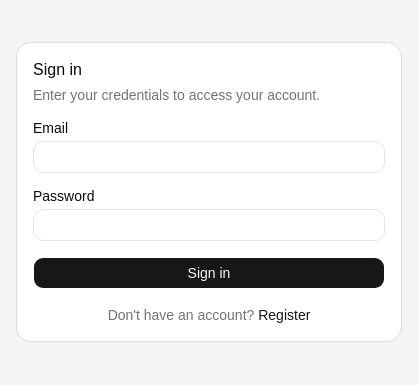
Test: LoginPage › shows validation error when submitting empty form
The width and height of the screenshot is (419, 385).
Click the button "Sign in" at (209, 273), box [33,257,385,289]
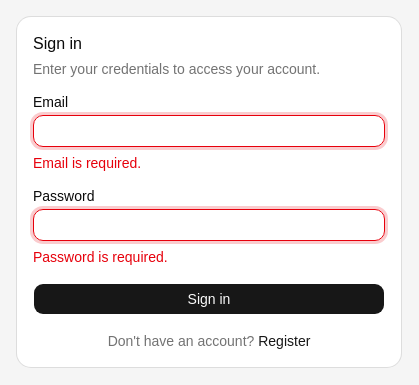
Expected: the text "Email is required." is shown, [33,155,141,171]
